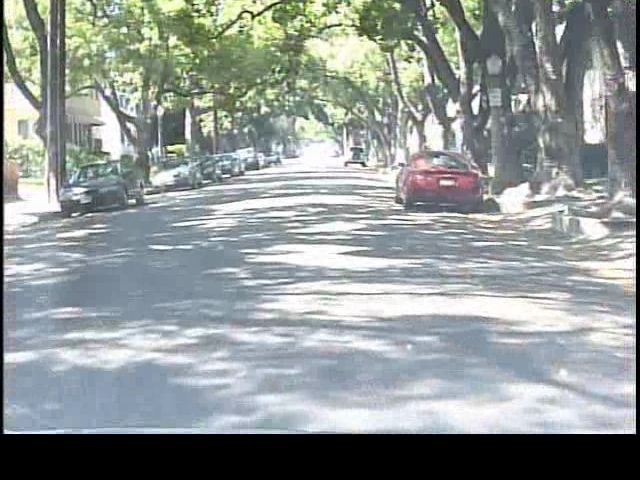person: (139, 144, 160, 186)
